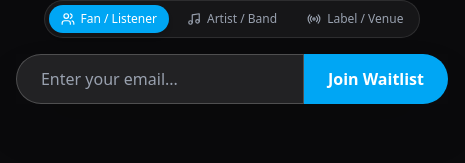
Test: WaitlistForm Component › handles API error responses in JSON format
Type "test@example.com" into the field with placeholder "Enter your email..." at {"x": 160, "y": 79}, box [16, 54, 304, 104]
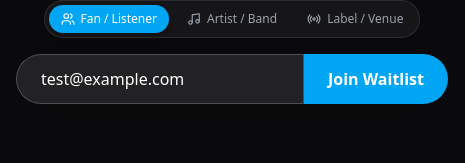
Submit the form with placeholder "Enter your email...", box [16, 54, 448, 104]
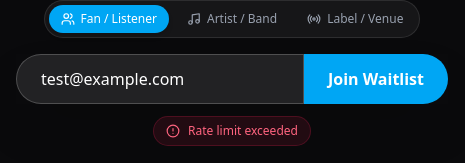
Check: the text "Rate limit exceeded" is shown, box [188, 123, 298, 139]
